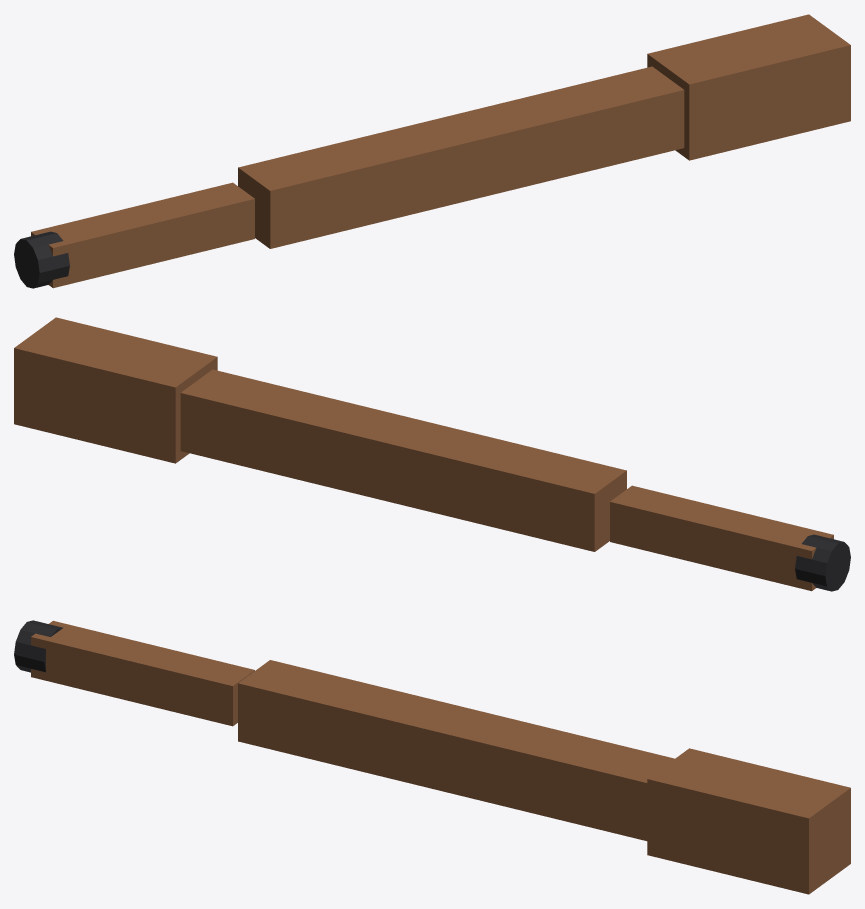
The model's file is SM_Wpn_Bat.fbx.
3 views of the same model, one above another, from view 1: azimuth 30°, elevation 25°; view 2: azimuth 150°, elevation 25°; view 3: azimuth 330°, elevation 25° (orthographic).
Visible parts, largest first — view 1: SM_Wpn_Bat; view 2: SM_Wpn_Bat; view 3: SM_Wpn_Bat.
Part boxes in pixels (box(x1,y1,x2,y2)): SM_Wpn_Bat: box(14, 14, 850, 288); SM_Wpn_Bat: box(14, 317, 850, 591); SM_Wpn_Bat: box(14, 620, 850, 894).
Bounding box in the file's own units: 79.5 × 7.2 × 7.2.
